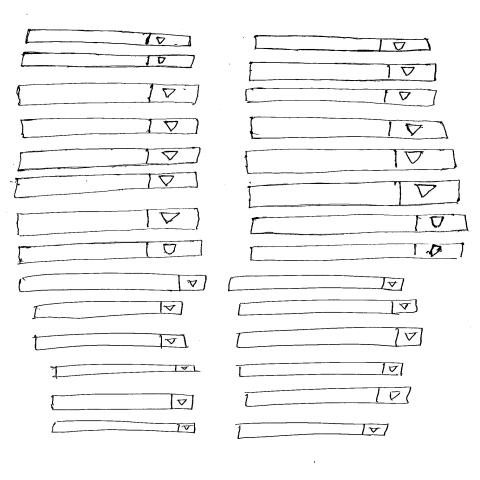Select: (247, 180, 462, 210), (17, 208, 201, 238), (13, 172, 200, 200), (251, 116, 450, 141), (249, 214, 470, 236), (17, 147, 202, 173), (19, 240, 204, 266), (17, 82, 200, 108), (249, 242, 466, 263), (235, 328, 425, 350), (20, 117, 201, 140), (248, 62, 439, 83), (245, 88, 439, 108), (19, 273, 208, 293), (244, 387, 412, 409), (237, 299, 419, 317), (254, 35, 433, 53), (227, 275, 406, 293), (19, 52, 196, 70), (24, 29, 192, 47), (51, 392, 196, 412), (33, 302, 184, 321), (238, 361, 405, 378), (34, 333, 189, 351), (237, 423, 390, 441), (54, 363, 197, 379), (51, 420, 197, 434)
